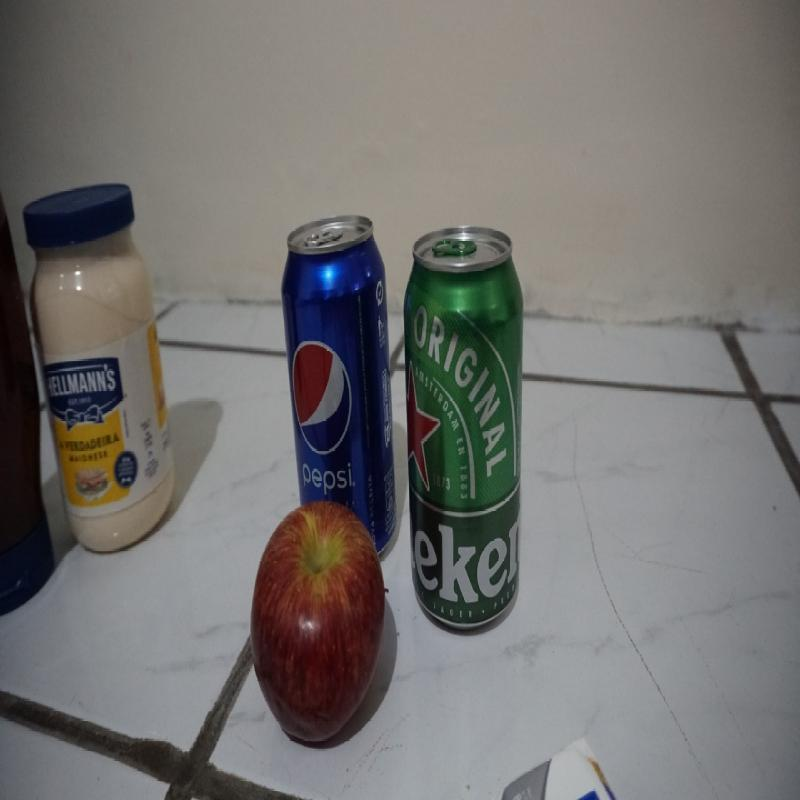Apple: (247, 507, 386, 747)
Beer can: (404, 227, 522, 628)
Ketchup: (1, 176, 63, 612)
Mayonnaise: (27, 186, 178, 552)
Soap: (501, 740, 617, 800)
Soda can: (282, 217, 394, 508)
